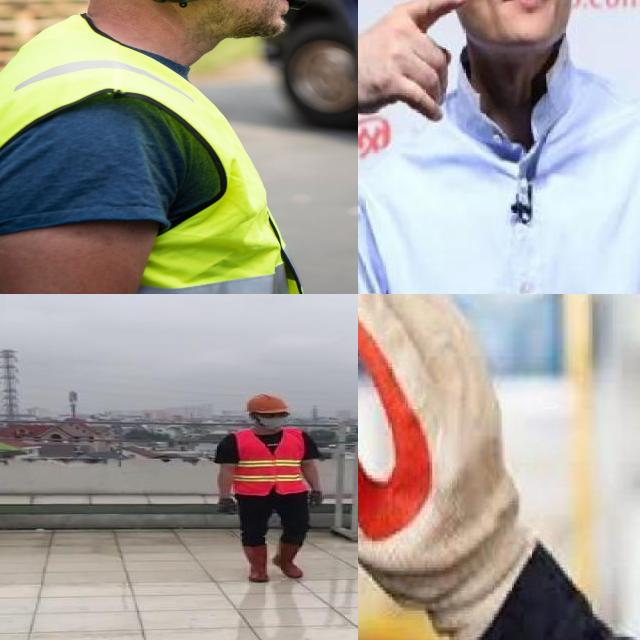boots: (270, 540, 306, 581), (242, 546, 270, 584)
face_nomask: (443, 0, 577, 50)
hand_glove: (358, 294, 559, 640)
hand_noglove: (358, 0, 466, 121)
head_helmet: (242, 392, 292, 416)
person: (0, 0, 358, 294), (369, 0, 640, 294), (210, 389, 336, 585)
vest: (0, 14, 309, 294), (233, 428, 306, 492)
